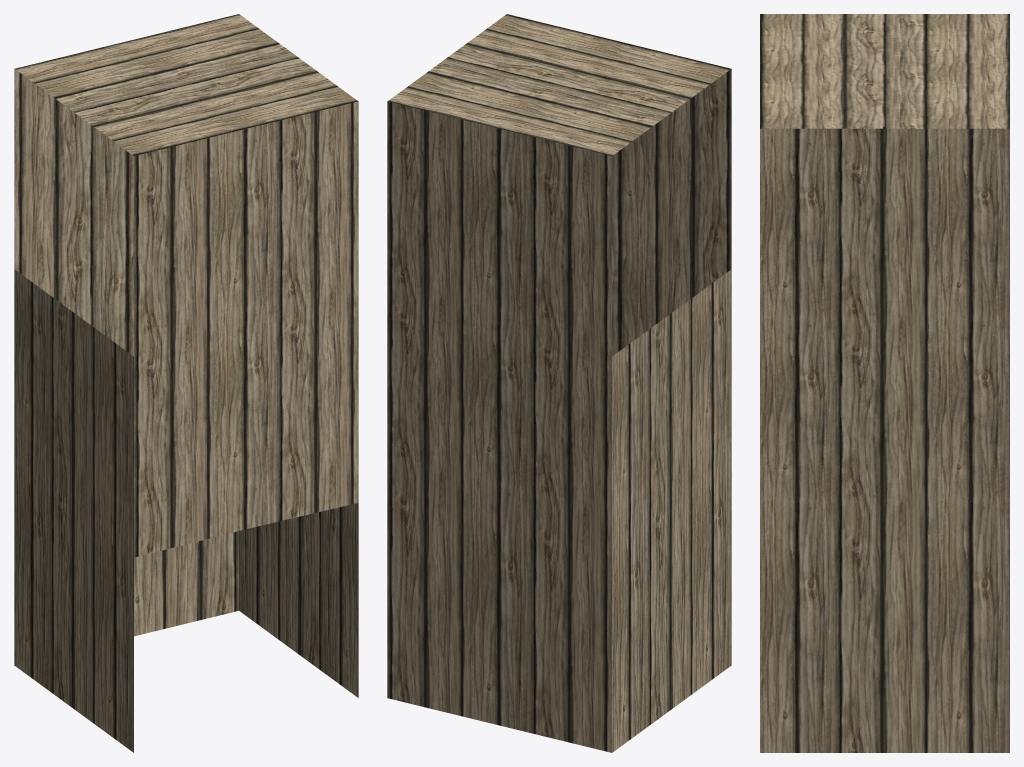
File: LAKETOWN_WAREHOUSE2_PS_WH2_WALL838376.obj
3 views of the same model, side by side, from view 1: azimuth 30°, elevation 25°; view 2: azimuth 150°, elevation 25°; view 3: azimuth 270°, elevation 25° (orthographic). The views are drawn at different scales.
Parts seen in each view (by area): view 1: WH2_Wall838376; view 2: WH2_Wall838376; view 3: WH2_Wall838376.
Part boxes in pixels (x1=…): WH2_Wall838376: x1=14, y1=14, x2=358, y2=752; WH2_Wall838376: x1=387, y1=14, x2=731, y2=752; WH2_Wall838376: x1=760, y1=14, x2=1009, y2=752.
Size of the model in its own units: 239 by 606 by 220.
